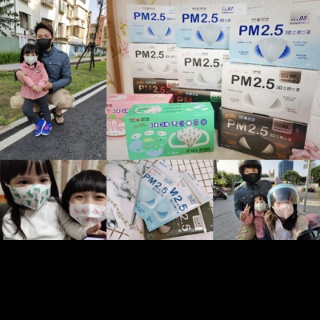with_mask: (8, 173, 52, 210), (67, 191, 107, 228), (272, 200, 295, 220), (36, 32, 52, 50), (243, 168, 260, 184), (23, 52, 37, 65), (253, 199, 266, 212)
